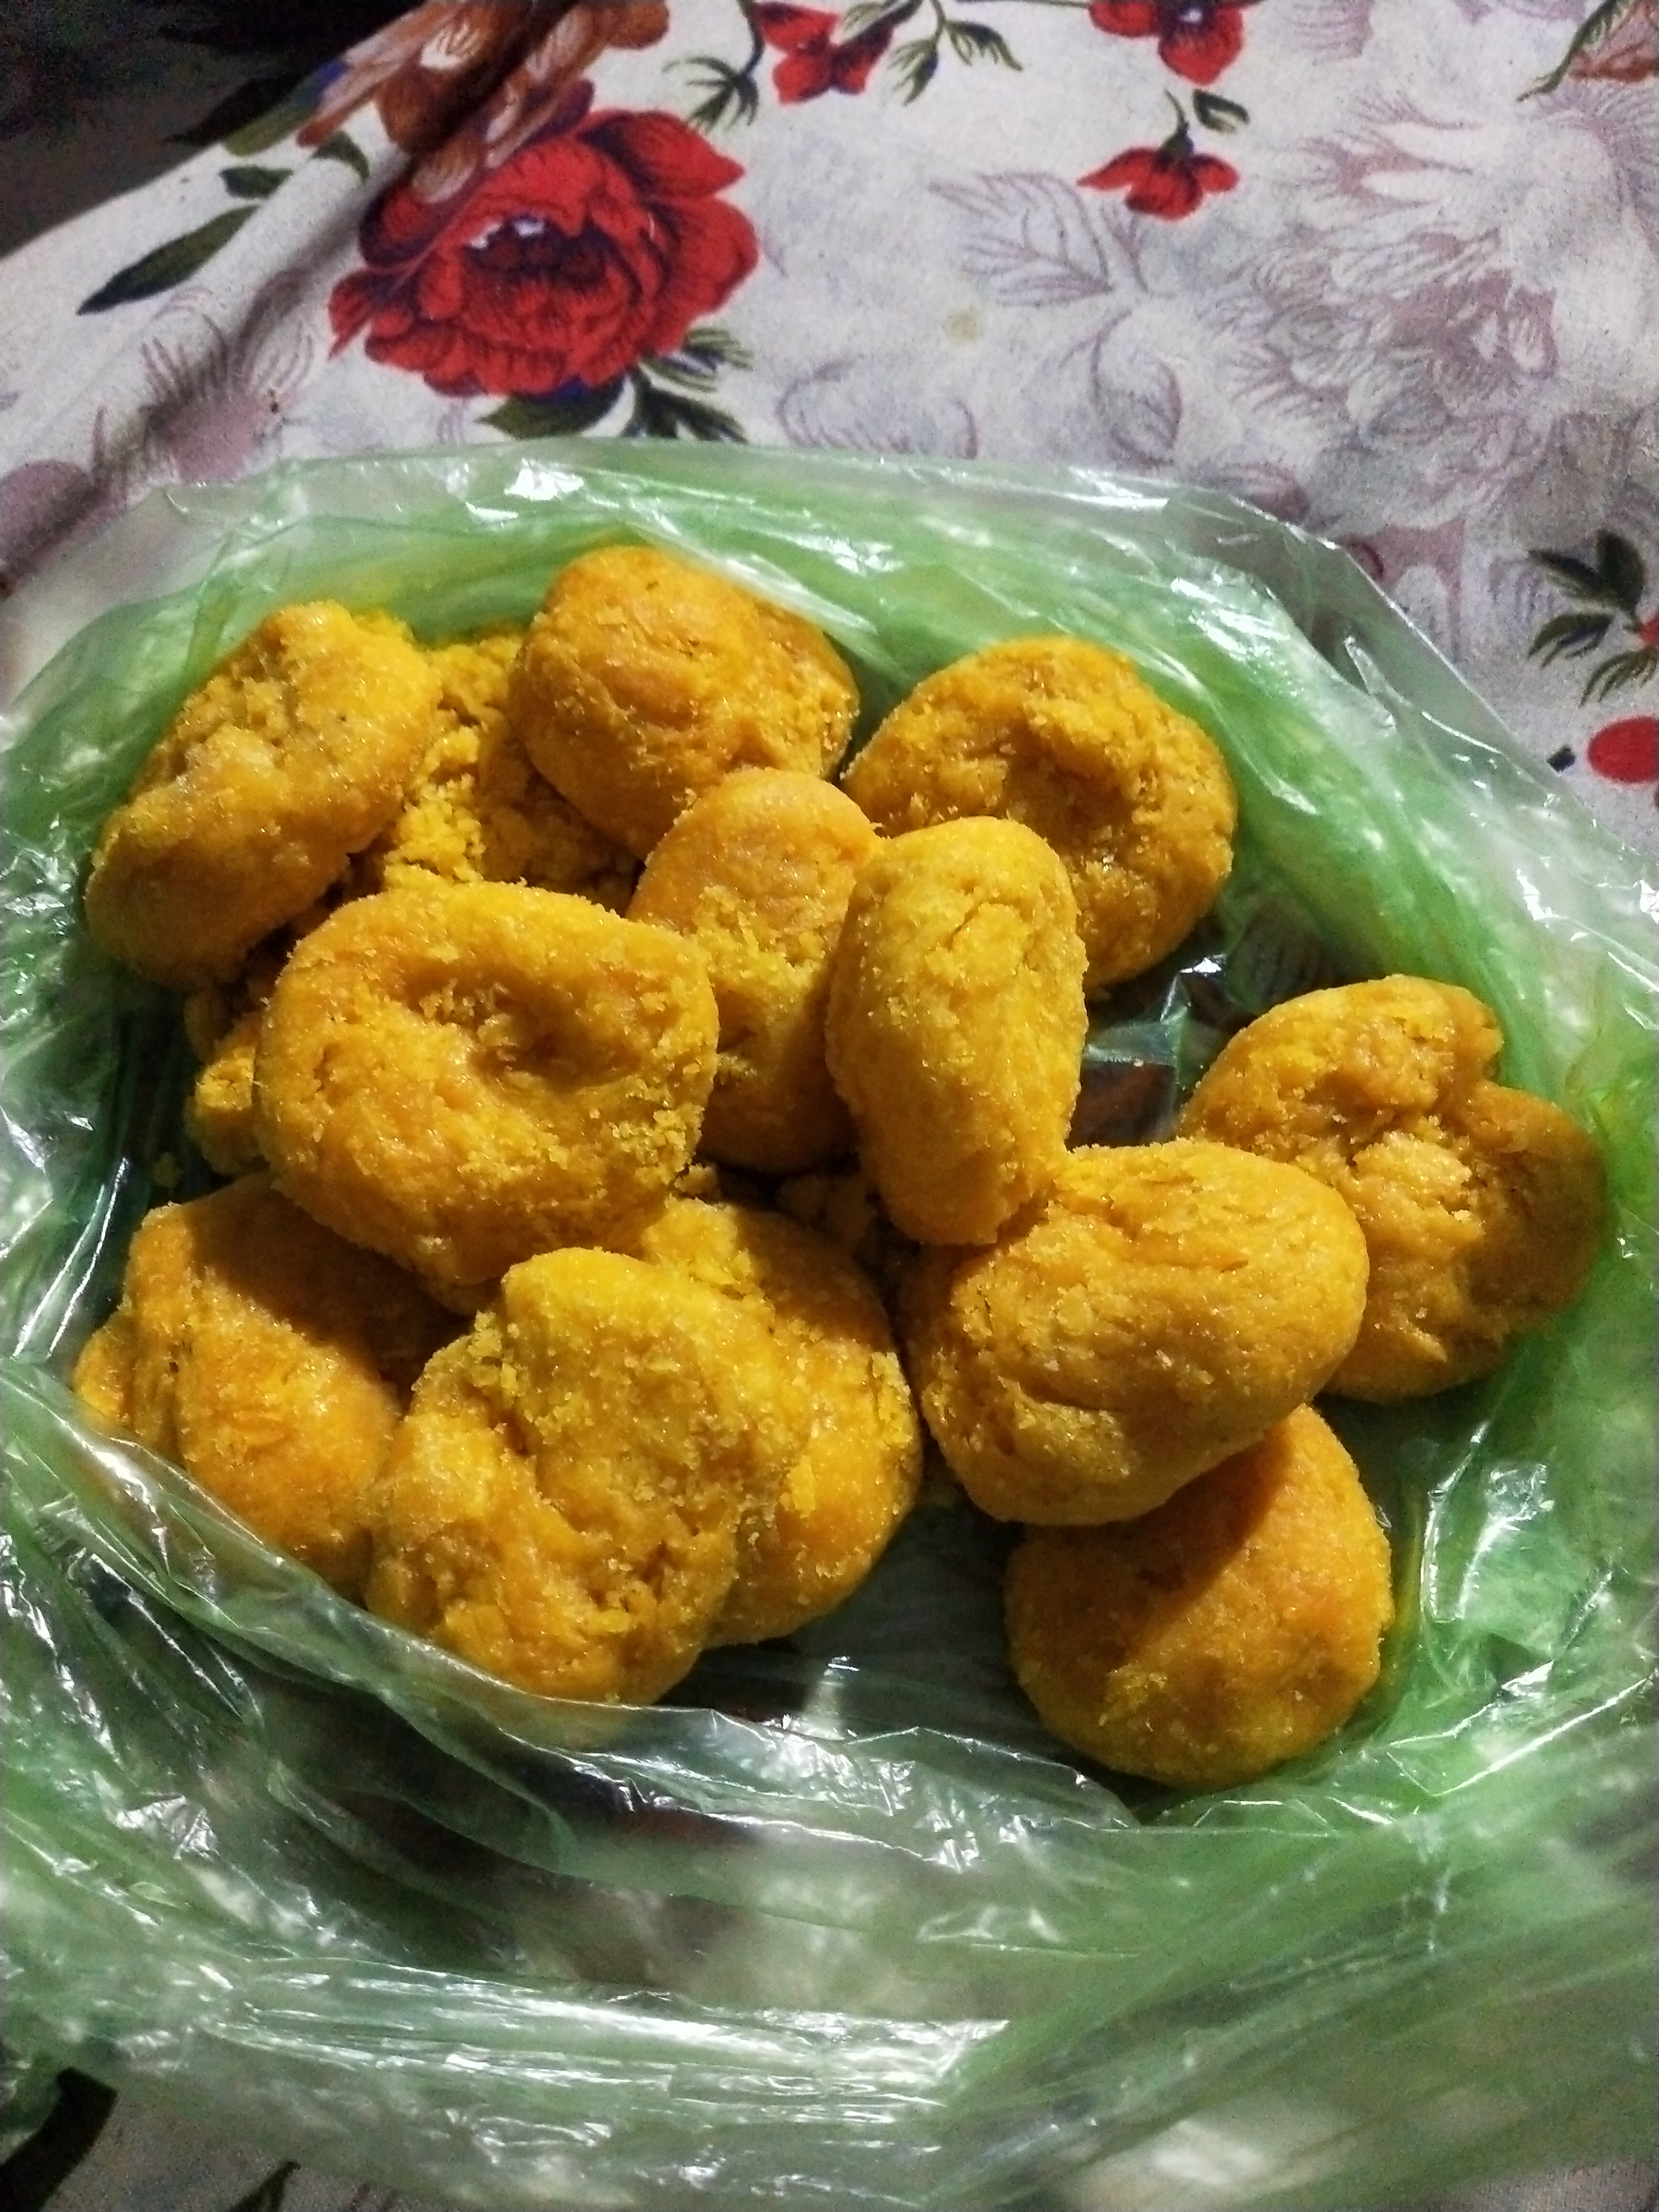food: (59, 528, 1622, 1796)
